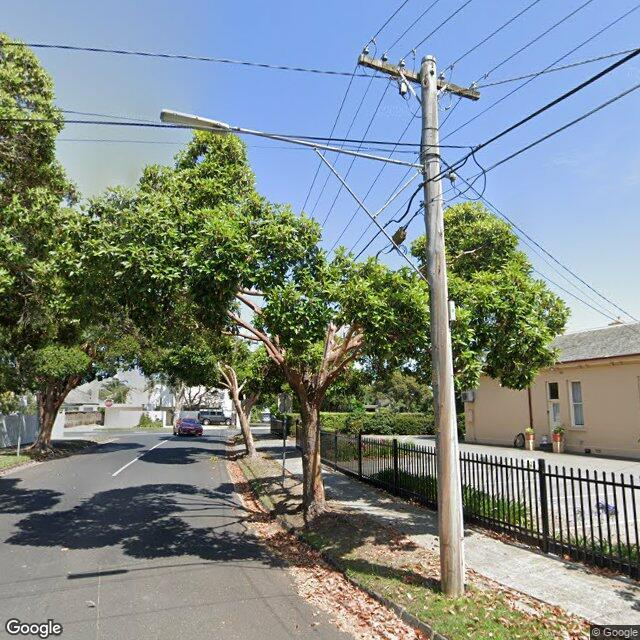crossarm: (356, 54, 482, 102)
streetlight: (159, 107, 430, 173)
timber-pole: (420, 54, 467, 601)
